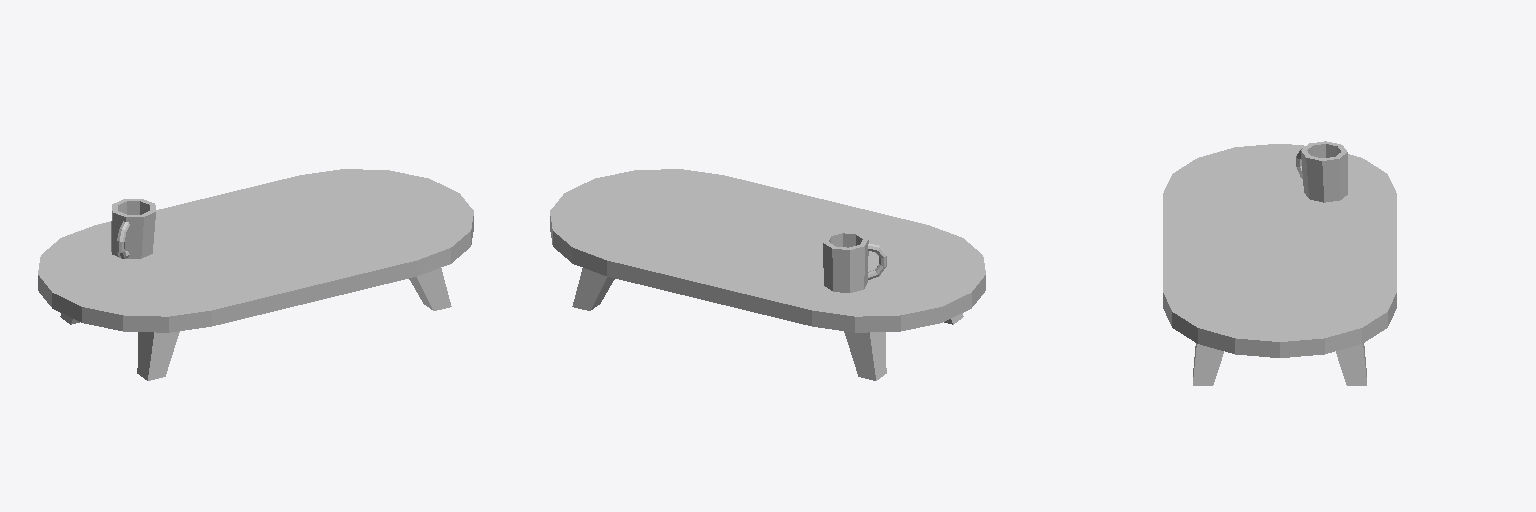
The model's file is tableCoffee.obj.
3 views of the same model, side by side, from view 1: azimuth 30°, elevation 25°; view 2: azimuth 150°, elevation 25°; view 3: azimuth 270°, elevation 25° (orthographic).
Visible parts, largest first — view 1: coffeeTable; view 2: coffeeTable; view 3: coffeeTable.
Part boxes in pixels (bbox=[...]): coffeeTable: bbox=[38, 169, 473, 380]; coffeeTable: bbox=[550, 169, 985, 380]; coffeeTable: bbox=[1163, 141, 1396, 385].
Size of the model in its own units: 2.69 by 0.7092 by 1.34.